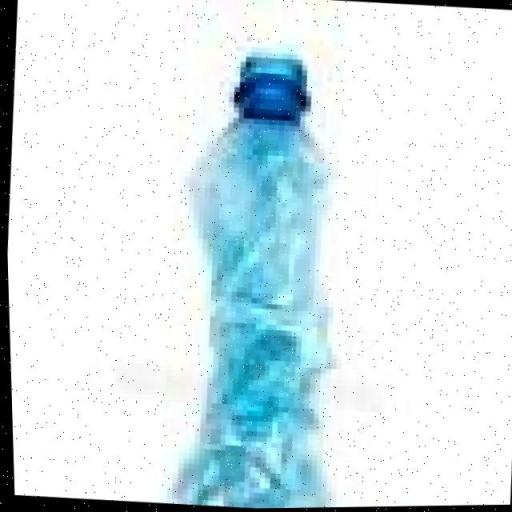plastic: (130, 28, 390, 510)
